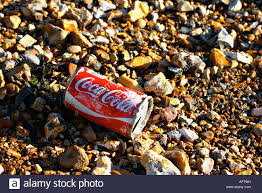Coca-Cola: (81, 79, 134, 111)
